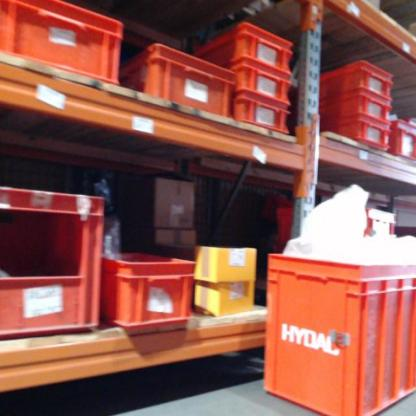small_load_carrier: (264, 254, 415, 416), (1, 182, 111, 338), (0, 3, 127, 90), (113, 34, 232, 125), (99, 249, 198, 334), (181, 16, 297, 77), (298, 55, 399, 101), (220, 62, 290, 105), (232, 90, 289, 138), (297, 96, 391, 122), (325, 117, 388, 150), (387, 113, 416, 166)
